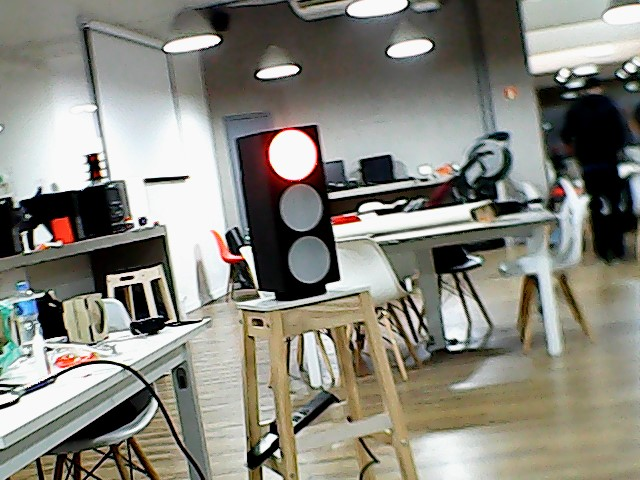vermelho: (230, 121, 360, 296)
